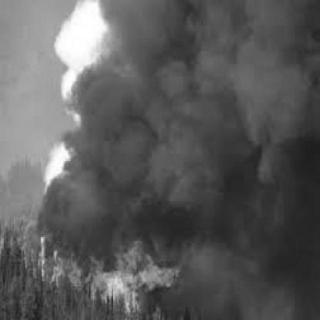Fire: (20, 232, 181, 314)
